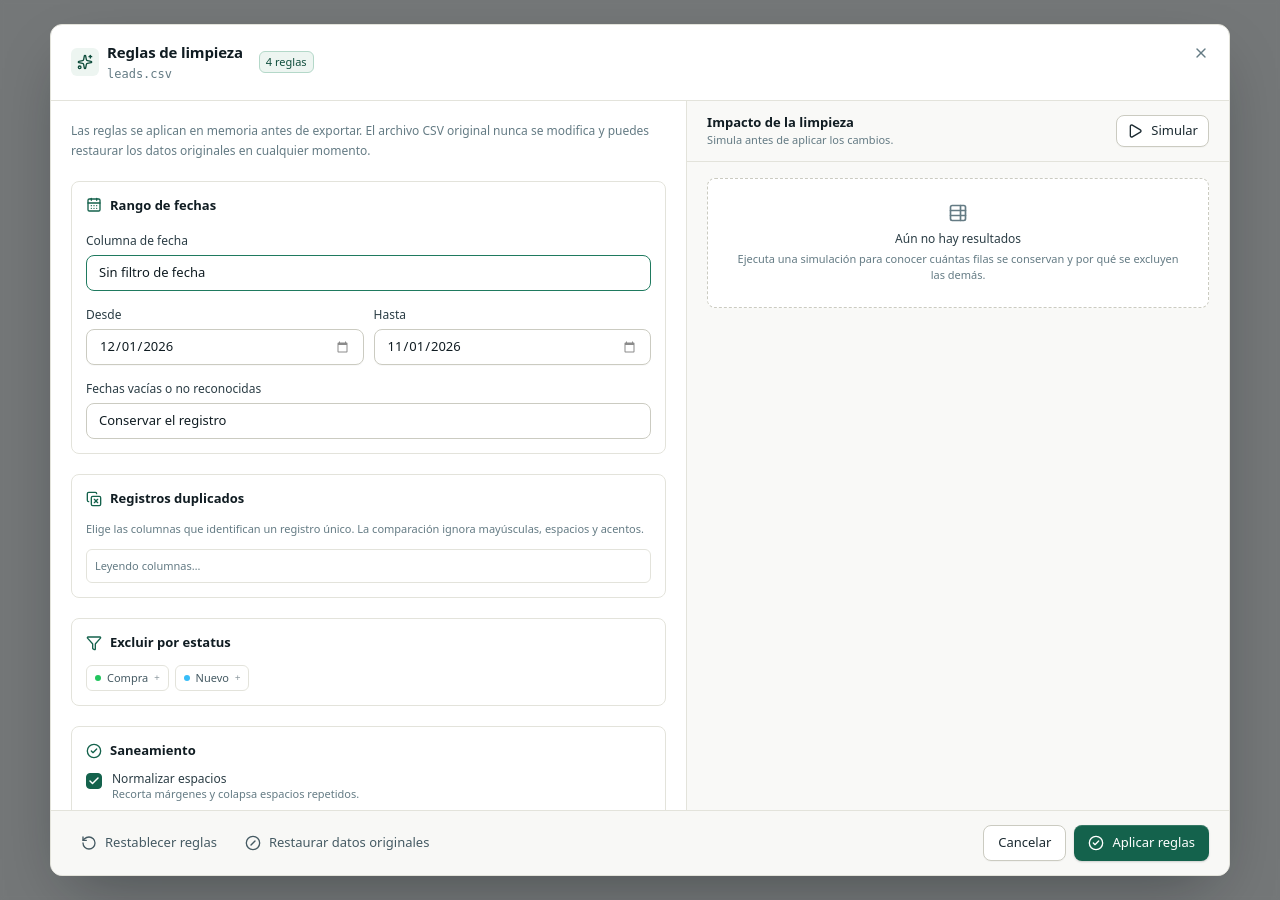
Test: CleaningConfigModal (Phase 7) › rejects an inverted date range before simulating
The image size is (1280, 900).
Check: the date field labelled "Desde" holds "2026-12-01", box [86,329,364,365]
Click the button "Simular" at (1163, 130), box [1116,114,1209,146]
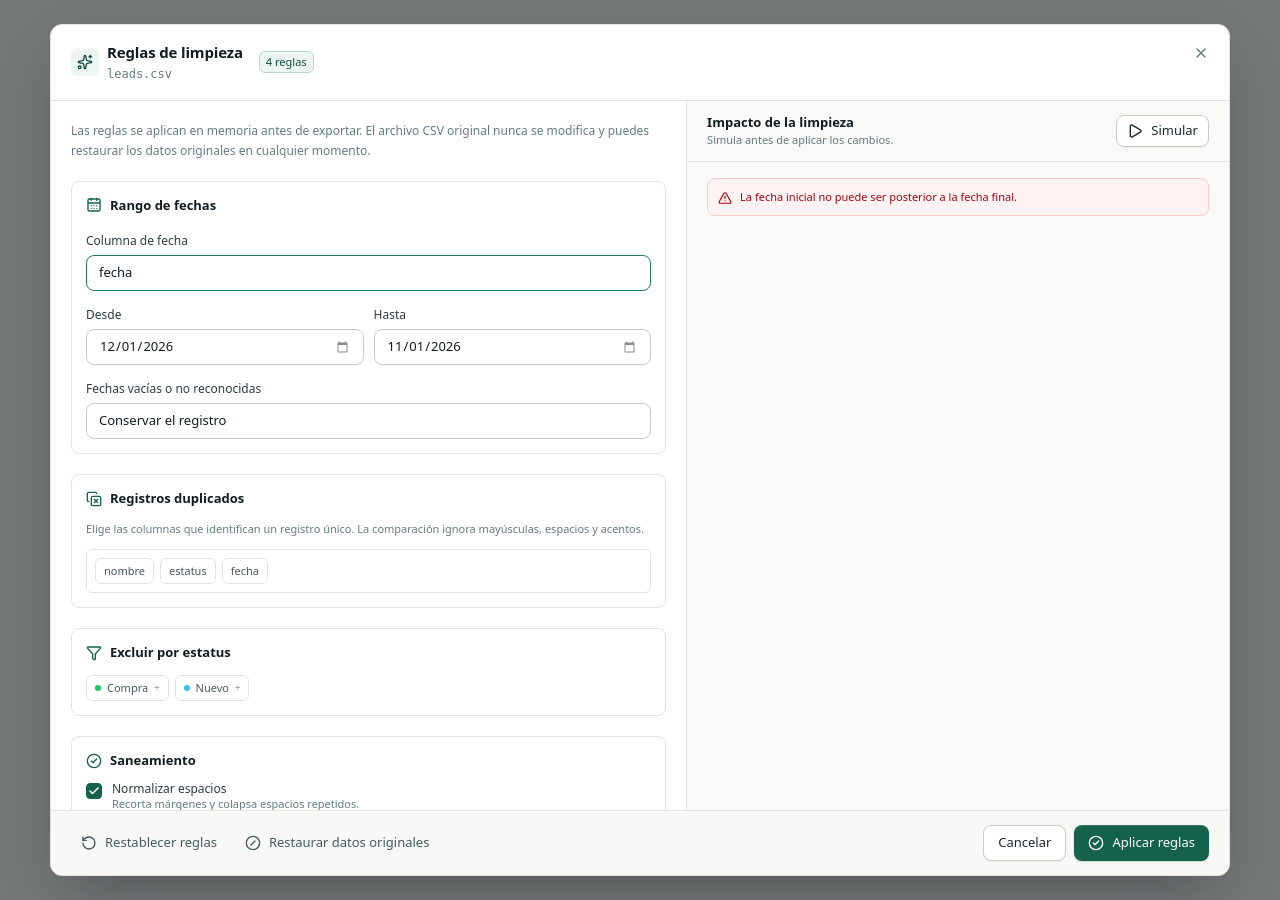
Check: the text "La fecha inicial no puede ser posterior a la fecha final." is shown, box [707,178,1209,216]
